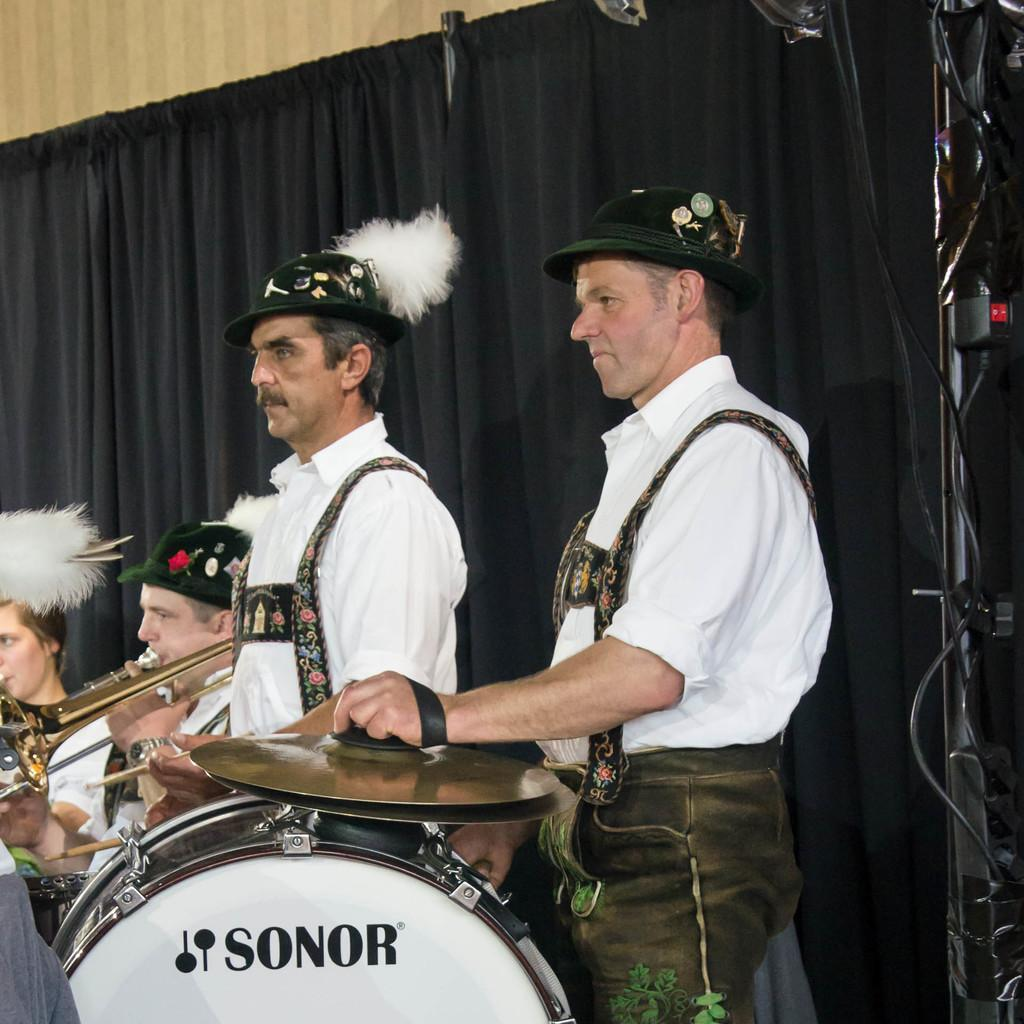Hat: (550, 180, 762, 297), (225, 260, 402, 344)
